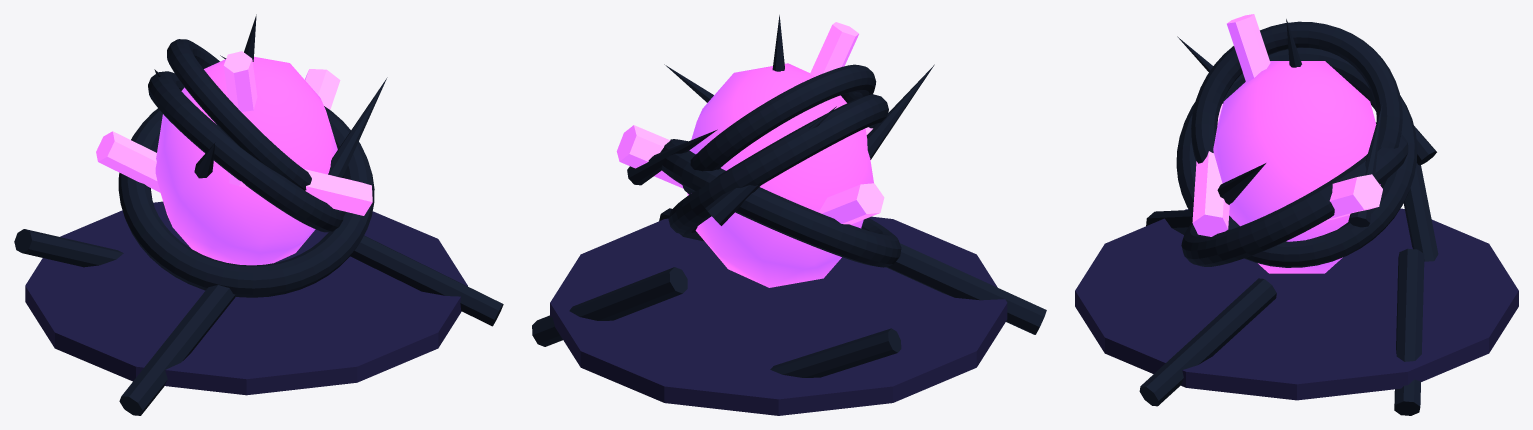
File: nudo_corrupcion.glb
The picture shows the model from 3 angles, left to right: view 1: azimuth 30°, elevation 25°; view 2: azimuth 150°, elevation 25°; view 3: azimuth 270°, elevation 25°; orthographic projection. The views are drawn at different scales.
Visible parts, largest first — view 1: Cylinder, Icosphere, Torus, Torus.001, Torus.002, Cylinder.005, Cylinder.006, Cylinder.007, Cylinder.002, Cylinder.003, Cylinder.004, Cone.001 (+1 smaller); view 2: Cylinder, Icosphere, Torus, Torus.001, Torus.002, Cylinder.005, Cylinder.008, Cylinder.007, Cylinder.002, Cylinder.001, Cylinder.004, Cone.002 (+2 smaller); view 3: Cylinder, Icosphere, Torus.001, Torus.002, Torus, Cylinder.006, Cylinder.008, Cylinder.003, Cylinder.007, Cylinder.004, Cylinder.001, Cone.003 (+3 smaller).
Part boxes in pixels (left/top/right/bottom): Cylinder: left=25, top=201, right=467, bottom=395; Icosphere: left=155, top=56, right=337, bottom=265; Torus: left=118, top=106, right=374, bottom=297; Torus.001: left=148, top=71, right=343, bottom=232; Torus.002: left=167, top=39, right=311, bottom=190; Cylinder.005: left=119, top=285, right=235, bottom=415; Cylinder.006: left=350, top=235, right=503, bottom=326; Cylinder.007: left=14, top=229, right=123, bottom=267; Cylinder.002: left=96, top=131, right=160, bottom=192; Cylinder.003: left=229, top=169, right=372, bottom=215; Cylinder.004: left=223, top=51, right=257, bottom=111; Cone.001: left=328, top=77, right=387, bottom=177; Cylinder: left=550, top=216, right=1007, bottom=415; Icosphere: left=687, top=63, right=873, bottom=287; Torus: left=660, top=139, right=901, bottom=267; Torus.001: left=668, top=94, right=888, bottom=234; Torus.002: left=682, top=64, right=876, bottom=194; Cylinder.005: left=886, top=243, right=1046, bottom=334; Cylinder.008: left=532, top=267, right=687, bottom=346; Cylinder.007: left=770, top=328, right=901, bottom=377; Cylinder.002: left=818, top=183, right=884, bottom=224; Cylinder.001: left=616, top=125, right=683, bottom=188; Cylinder.004: left=810, top=22, right=858, bottom=76; Cone.002: left=705, top=106, right=836, bottom=225; Cylinder: left=1075, top=208, right=1518, bottom=400; Icosphere: left=1213, top=61, right=1380, bottom=273; Torus.001: left=1176, top=48, right=1417, bottom=267; Torus.002: left=1191, top=21, right=1402, bottom=163; Torus: left=1181, top=122, right=1408, bottom=266; Cylinder.006: left=1139, top=278, right=1276, bottom=406; Cylinder.008: left=1394, top=248, right=1424, bottom=415; Cylinder.003: left=1192, top=103, right=1229, bottom=236; Cylinder.007: left=1403, top=163, right=1438, bottom=261; Cylinder.004: left=1227, top=14, right=1270, bottom=82; Cylinder.001: left=1325, top=174, right=1382, bottom=220; Cone.003: left=1348, top=103, right=1382, bottom=227.
Size of the model in its own units: 1.5 by 1.19 by 1.5.
